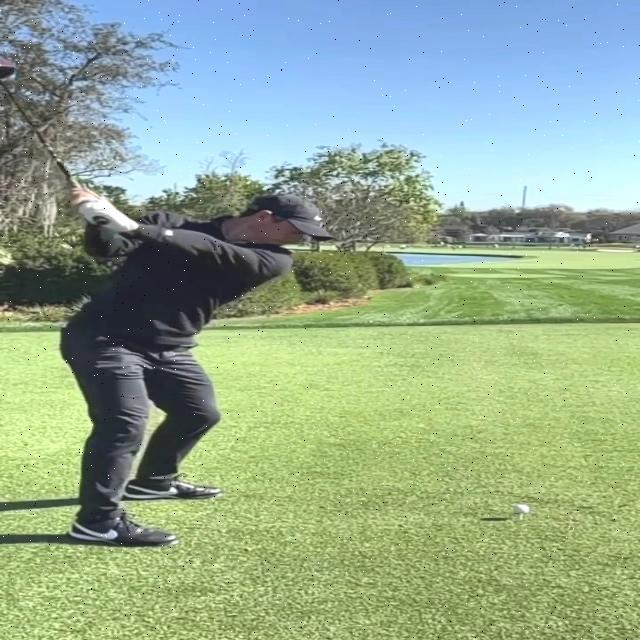golf ball: (513, 504, 529, 513)
golf club-handle: (0, 56, 110, 224)
golf club-head: (0, 56, 16, 75)
